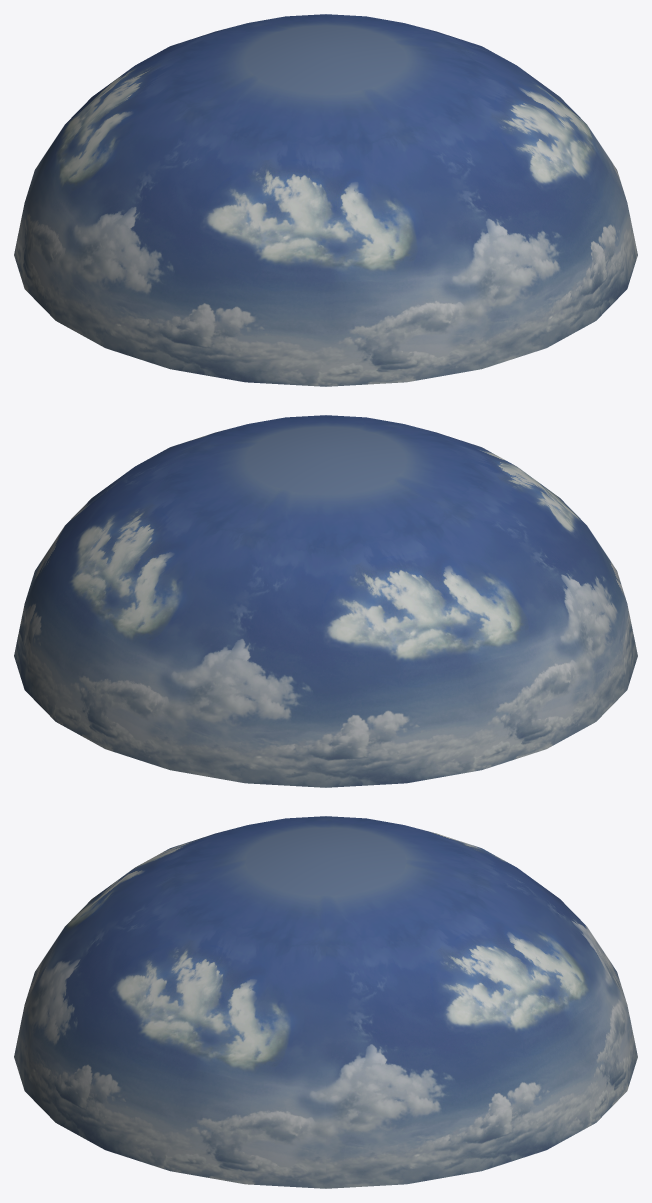
Rendered from gk_sky_01.FBX.
3 renders of one model, top to bottom at view 1: azimuth 30°, elevation 25°; view 2: azimuth 150°, elevation 25°; view 3: azimuth 270°, elevation 25°, orthographic.
Visible parts, largest first — view 1: gk_sky_01; view 2: gk_sky_01; view 3: gk_sky_01.
Boxes of the visible parts, <box> form: gk_sky_01: <box>14,14,637,386</box>; gk_sky_01: <box>14,415,637,787</box>; gk_sky_01: <box>14,816,637,1188</box>.
Size of the model in its own units: 68059 by 24305 by 68059.
1 material, 1 textured.
